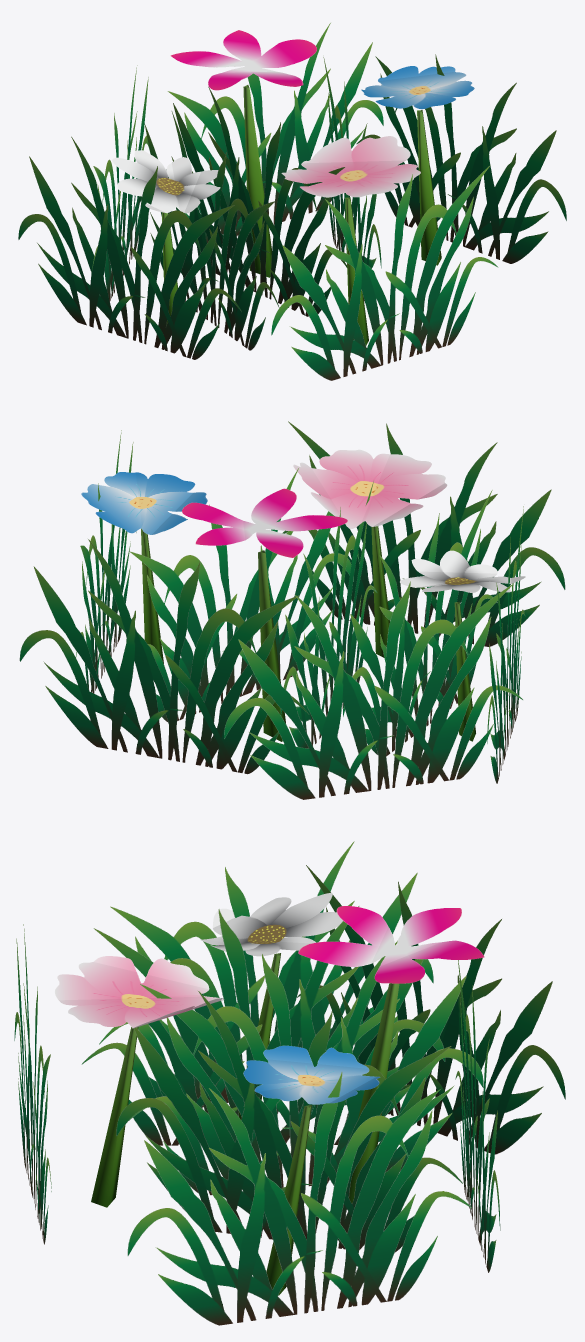
Rendered from SM_Bushflower(Fix).fbx.
3 renders of one model, top to bottom at view 1: azimuth 30°, elevation 25°; view 2: azimuth 150°, elevation 25°; view 3: azimuth 270°, elevation 25°, orthographic. The views are drawn at different scales.
Parts seen in each view (by area): view 1: BushFlower_Mash; view 2: BushFlower_Mash; view 3: BushFlower_Mash.
Part boxes in pixels (x1,y1,x2,y2): BushFlower_Mash: (18,23,566,380); BushFlower_Mash: (19,421,565,799); BushFlower_Mash: (14,841,565,1325).
Size of the model in its own units: 0.2522 by 0.1116 by 0.2159.
